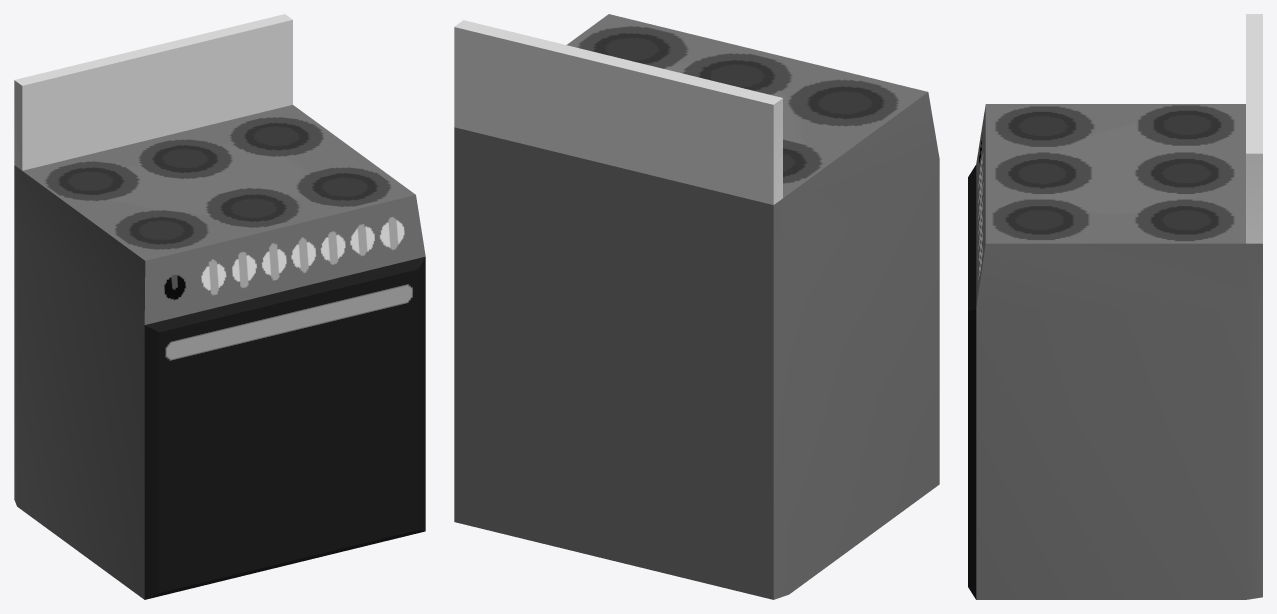
Rendered from Stove.fbx.
3 renders of one model, left to right at view 1: azimuth 30°, elevation 25°; view 2: azimuth 150°, elevation 25°; view 3: azimuth 270°, elevation 25°, orthographic. The views are drawn at different scales.
Parts seen in each view (by area): view 1: Cocina; view 2: Cocina; view 3: Cocina.
Part boxes in pixels (x1,y1,x2,y2): Cocina: (14,14,425,599); Cocina: (454,14,939,599); Cocina: (968,14,1262,599).
Bounding box in the file's own units: 176 × 251 × 151.
